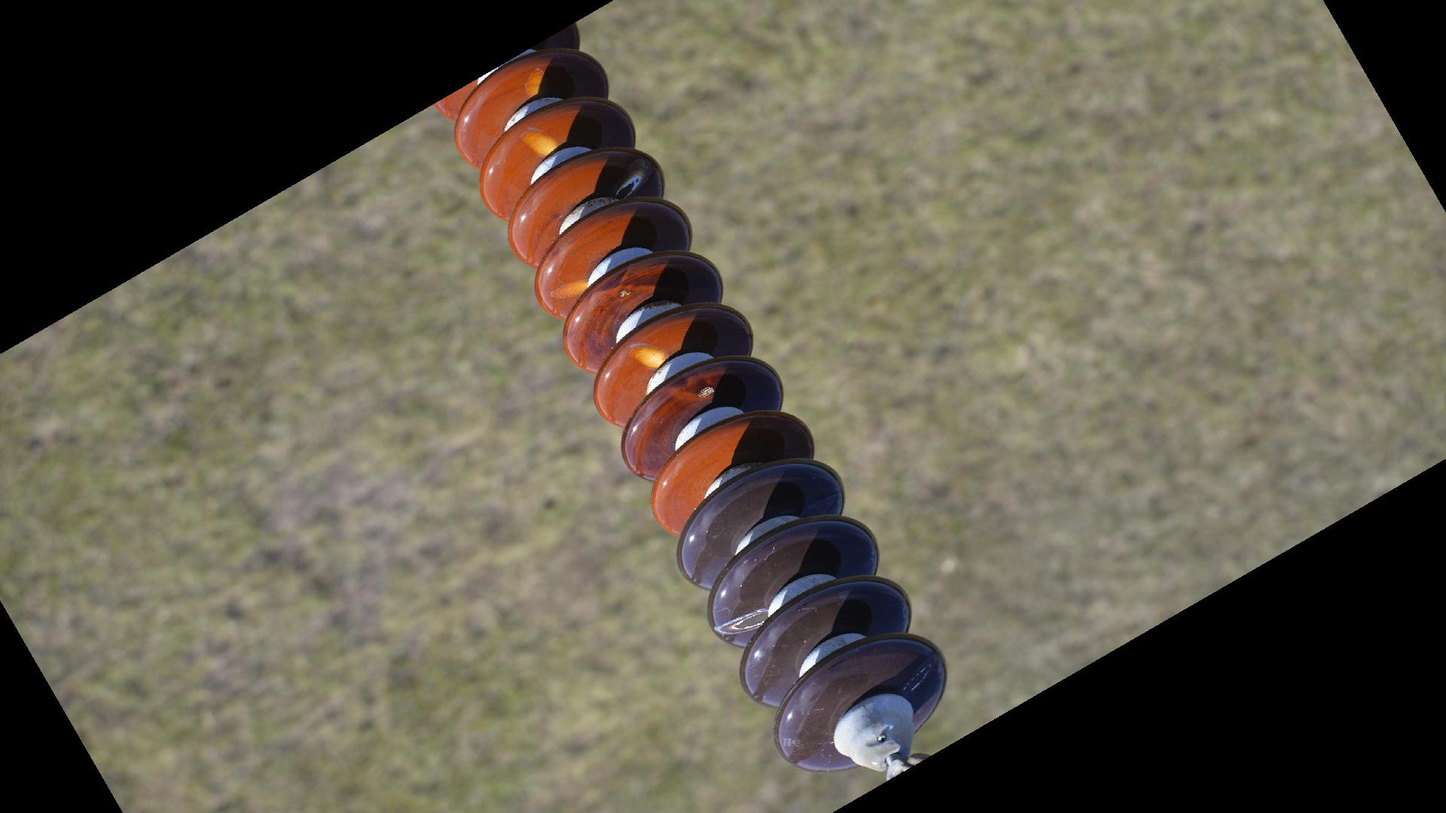insulator: (424, 16, 954, 778)
insulator_flashover: (711, 605, 770, 638), (516, 127, 560, 160), (627, 340, 670, 373), (610, 169, 646, 205), (547, 276, 592, 302), (903, 659, 934, 695), (523, 65, 547, 98)
